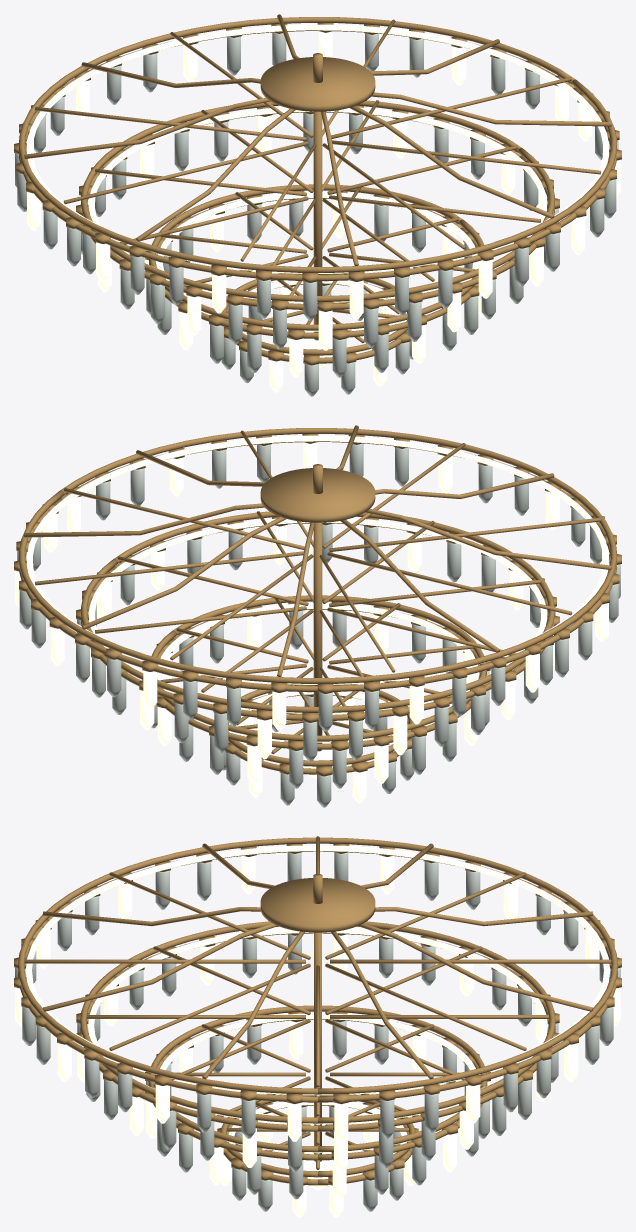
Rendered from meridian-chandelier.glb.
The picture shows the model from 3 angles, top to bottom: view 1: azimuth 30°, elevation 25°; view 2: azimuth 150°, elevation 25°; view 3: azimuth 270°, elevation 25°; orthographic projection.
Parts seen in each view (by area): view 1: Meridian brushed bronze, Meridian chandelier cut crystal, Meridian chandelier opal glow; view 2: Meridian brushed bronze, Meridian chandelier cut crystal, Meridian chandelier opal glow; view 3: Meridian brushed bronze, Meridian chandelier cut crystal, Meridian chandelier opal glow.
Boxes of the visible parts, x1,y1,x2,y2 form: Meridian brushed bronze: [14, 14, 621, 365]; Meridian chandelier cut crystal: [15, 32, 618, 396]; Meridian chandelier opal glow: [19, 24, 620, 392]; Meridian brushed bronze: [14, 425, 621, 776]; Meridian chandelier cut crystal: [17, 443, 620, 807]; Meridian chandelier opal glow: [15, 435, 616, 803]; Meridian brushed bronze: [14, 836, 621, 1185]; Meridian chandelier cut crystal: [15, 852, 620, 1211]; Meridian chandelier opal glow: [15, 845, 620, 1217].
Size of the model in its own units: 5.1 by 2.89 by 5.08.
